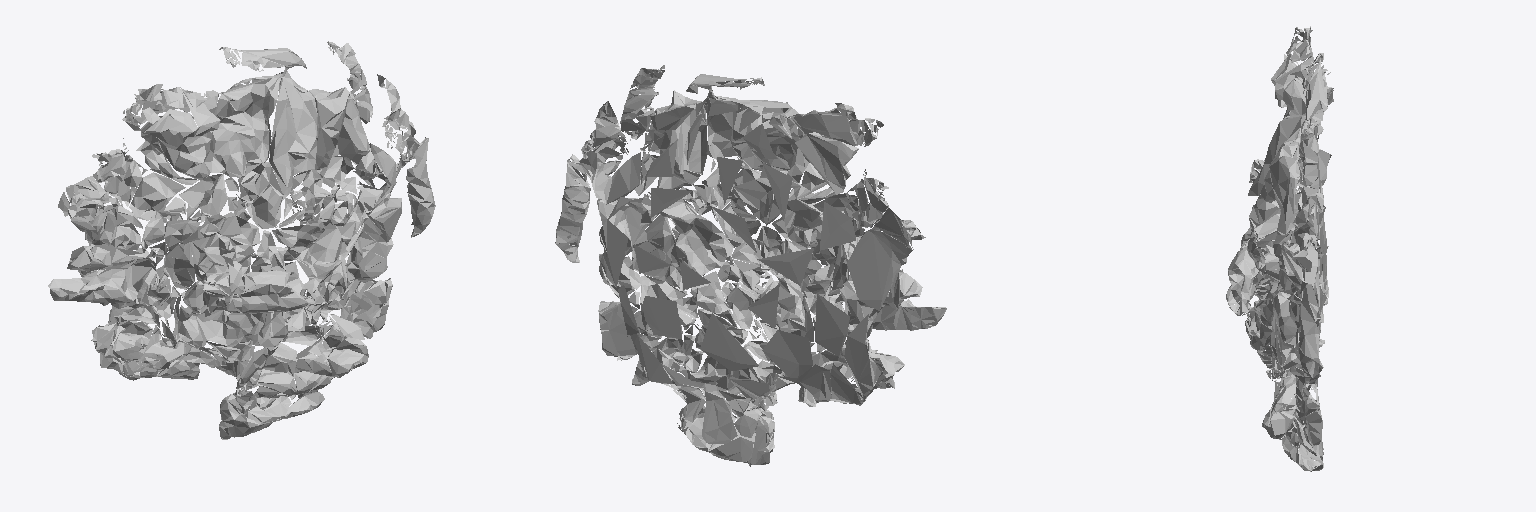
File: simplify_pasta_2-3.obj
The picture shows the model from 3 angles: view 1: azimuth 30°, elevation 25°; view 2: azimuth 150°, elevation 25°; view 3: azimuth 270°, elevation 25°; orthographic projection.
Size of the model in its own units: 0.211 by 0.205 by 0.051.